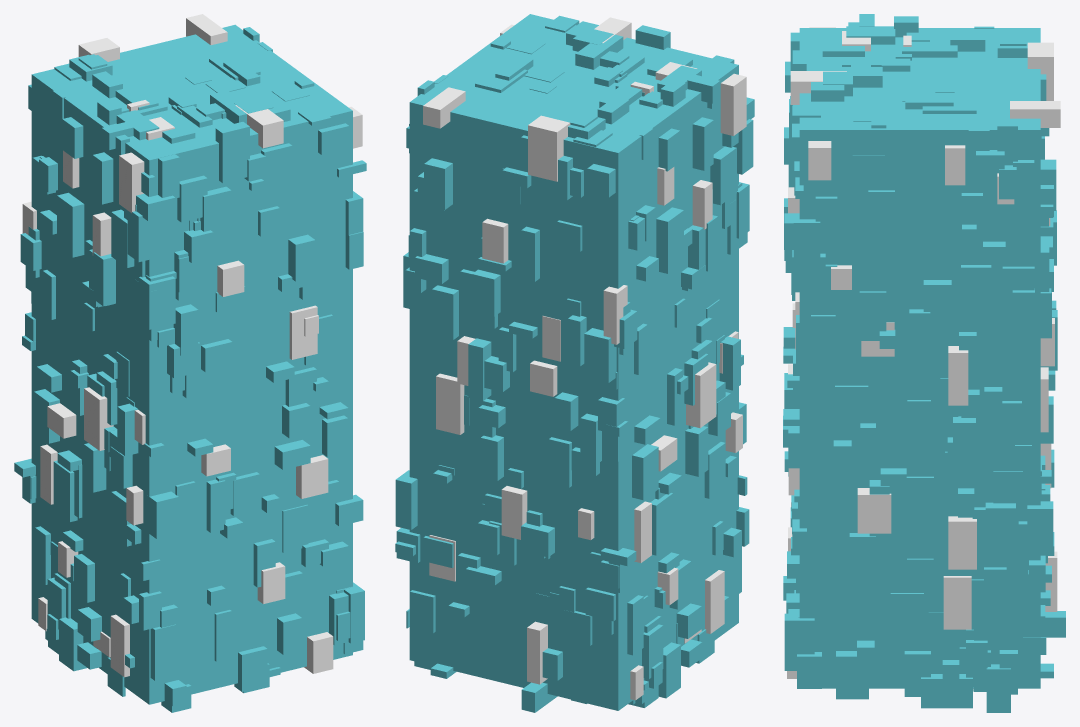
The model's file is Loombuilding.fbx.
3 renders of one model, left to right at view 1: azimuth 30°, elevation 25°; view 2: azimuth 150°, elevation 25°; view 3: azimuth 270°, elevation 25°, orthographic. The views are drawn at different scales.
Parts seen in each view (by area): view 1: Cube.006; view 2: Cube.006; view 3: Cube.006.
Boxes of the visible parts, bbox=[...] form: Cube.006: bbox=[14, 14, 366, 712]; Cube.006: bbox=[395, 14, 754, 712]; Cube.006: bbox=[783, 14, 1065, 712].
Size of the model in its own units: 3270 by 7792 by 3369.
